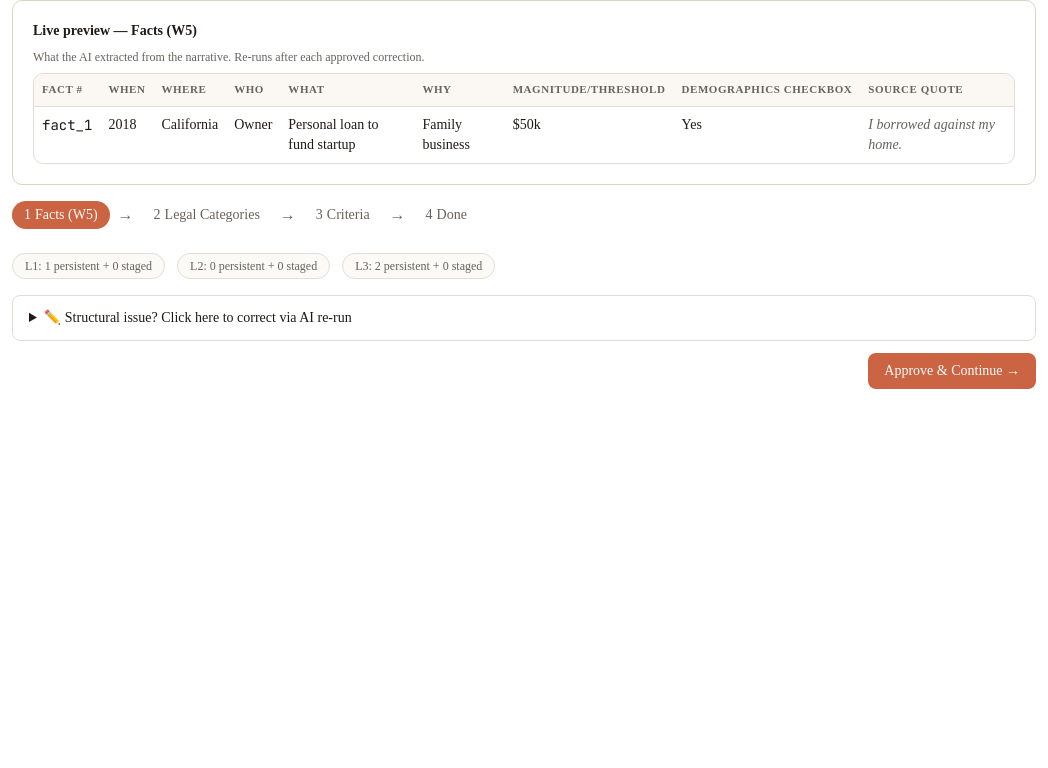
CucpStepper › Back from Step 2 returns to Step 1 (facts table)
Expected: the text "L1: 1 persistent + 0 staged" is shown, x1=12 y1=253 x2=165 y2=279
Click the button "Approve & Continue →": point(952, 371) x1=868 y1=353 x2=1036 y2=389
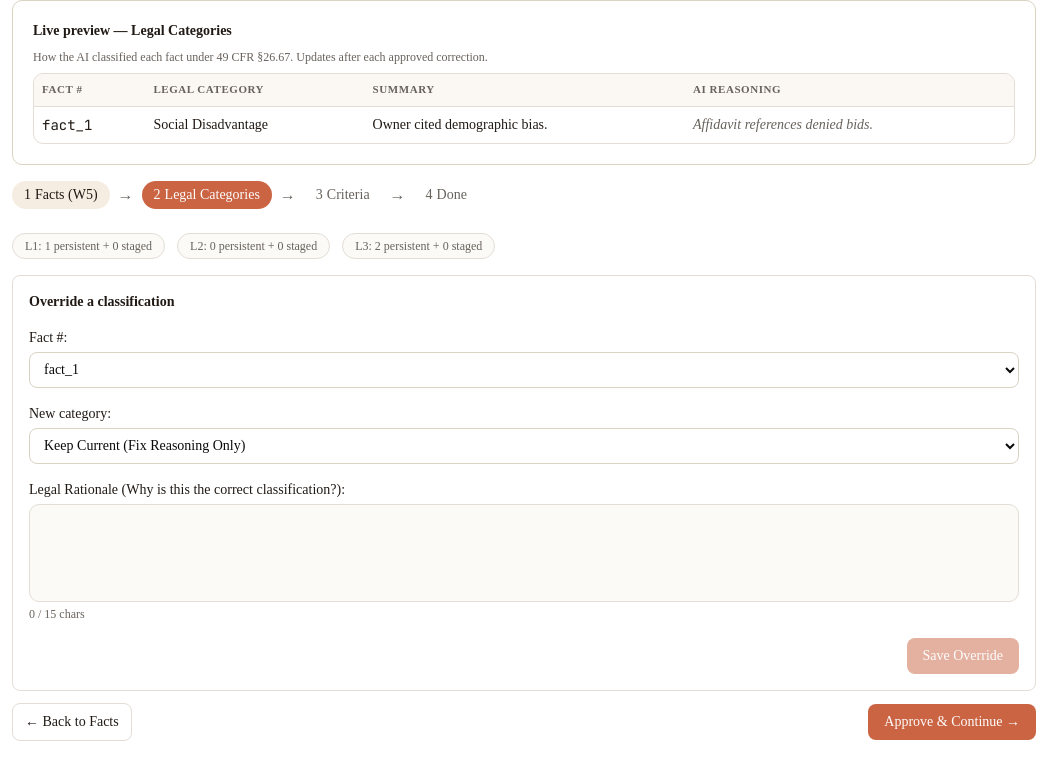
Result: the column heading "Legal Category" is shown at x1=145 y1=74 x2=365 y2=106
Click the button "← Back to Facts": point(72, 722) x1=12 y1=703 x2=132 y2=741
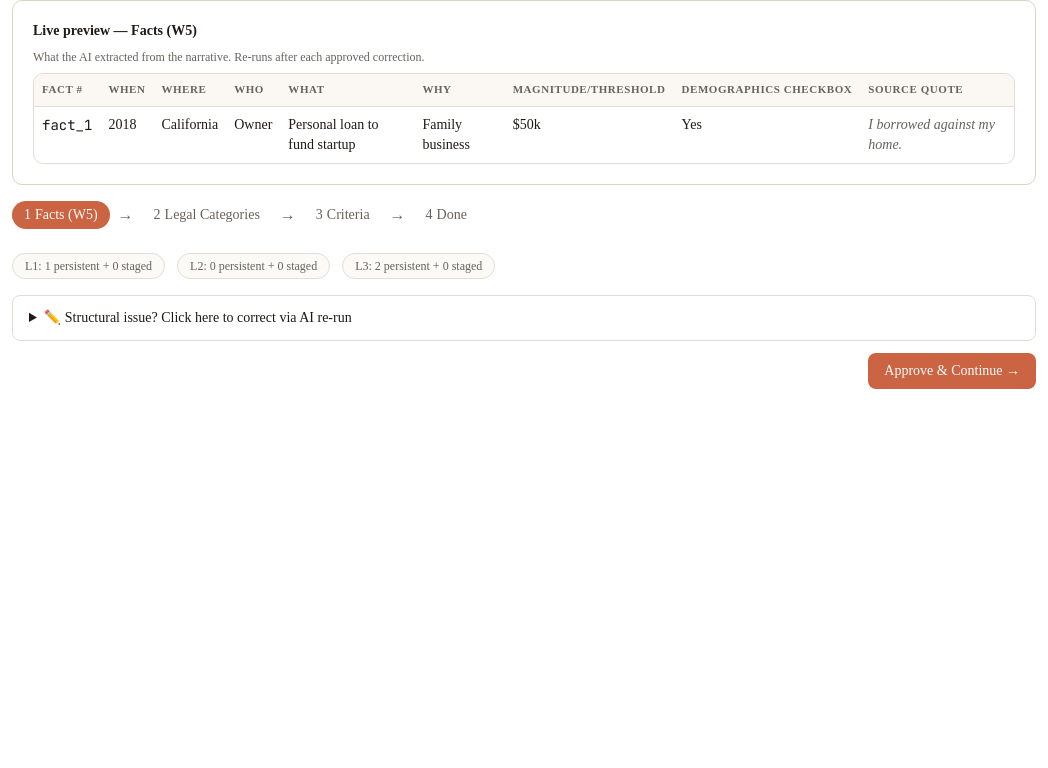
Result: the column heading "Source Quote" is shown at x1=860 y1=74 x2=1014 y2=106
